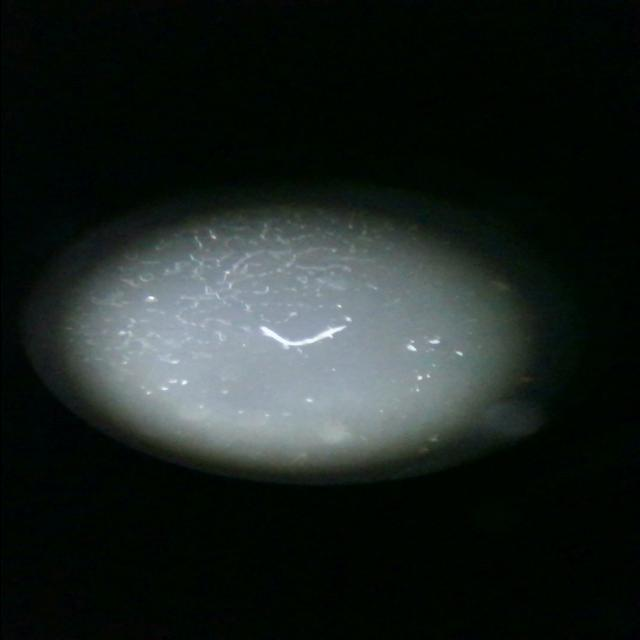psudo-nitzschia: (246, 314, 358, 356)
